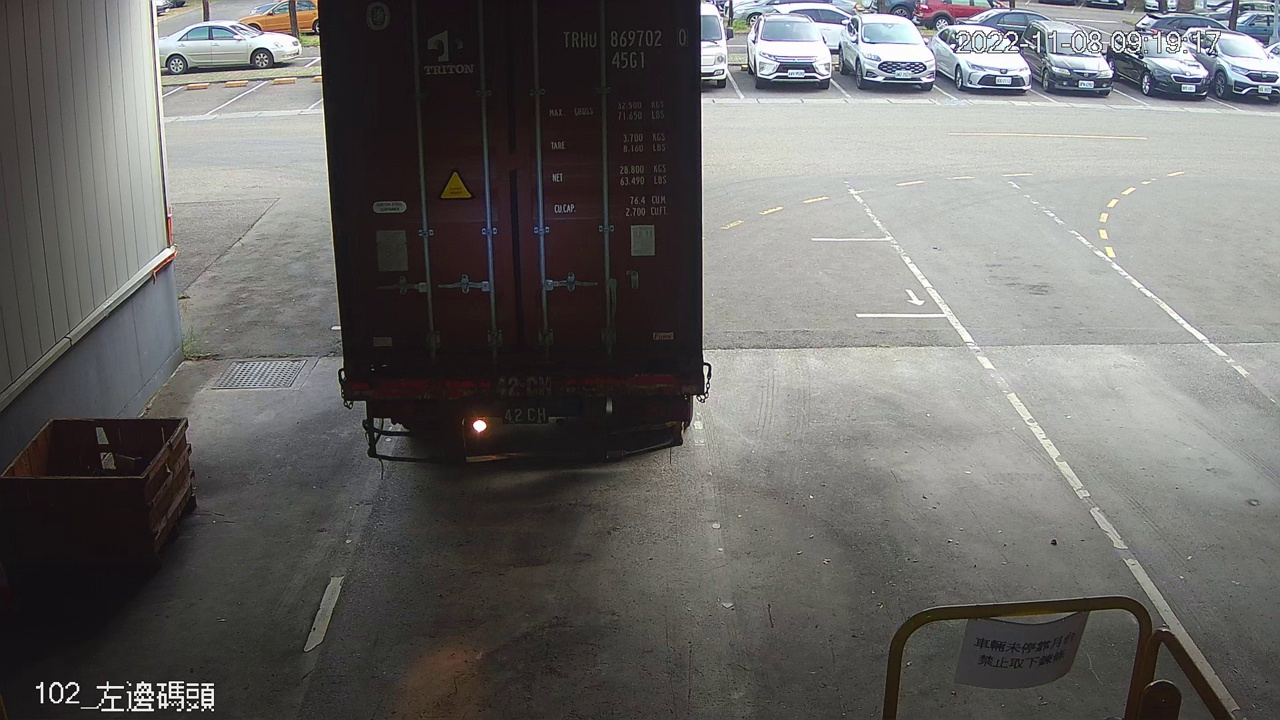container: (555, 22, 693, 73)
